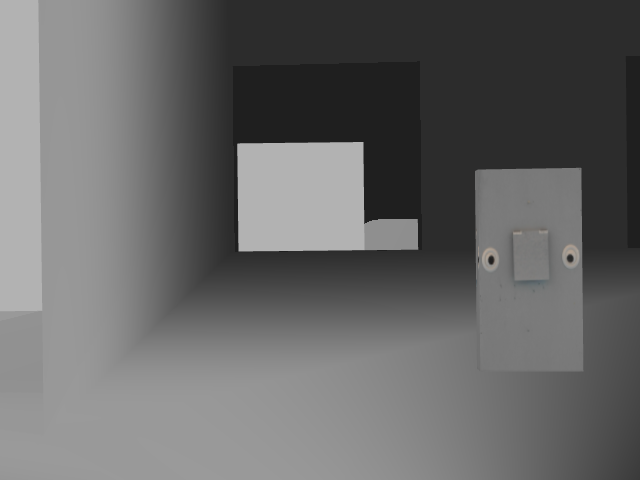facade: (479, 224, 581, 283)
